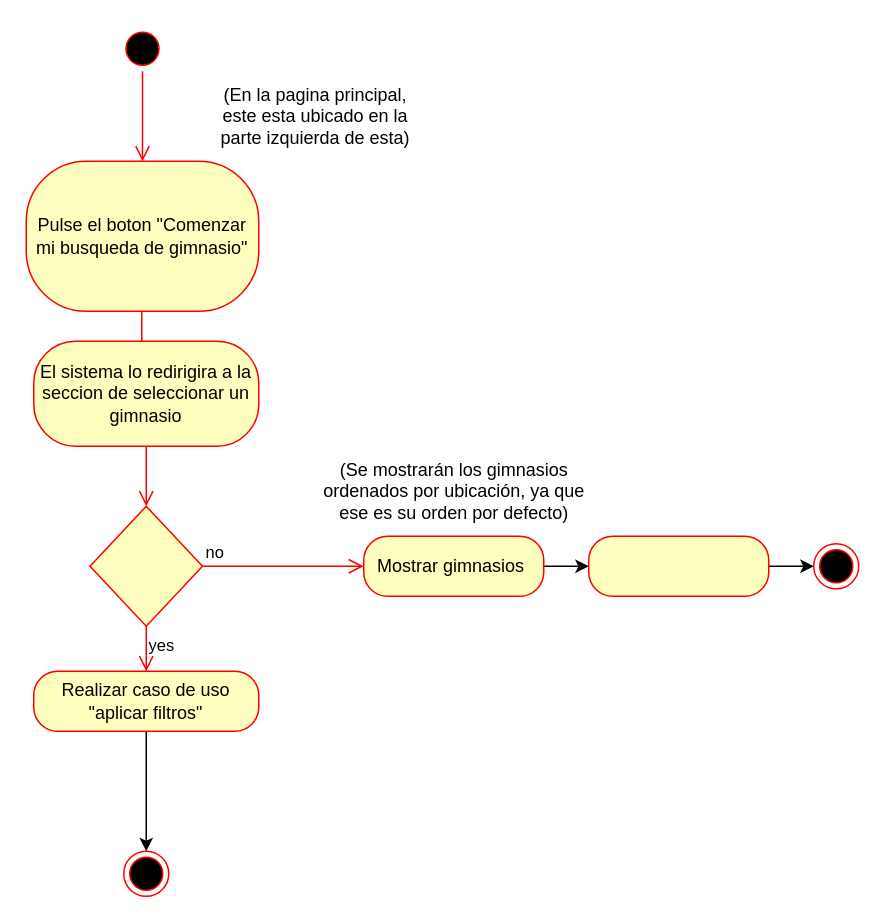
Image size: 885x923. Some labels were removed from this diagram. Each missing label, with the box of its shape:
Seleccione un gimnasio: (587, 535, 769, 596)
¿Desea aplicar filtros?: (88, 505, 202, 626)
